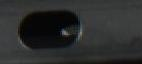holes: (16, 9, 85, 51)
